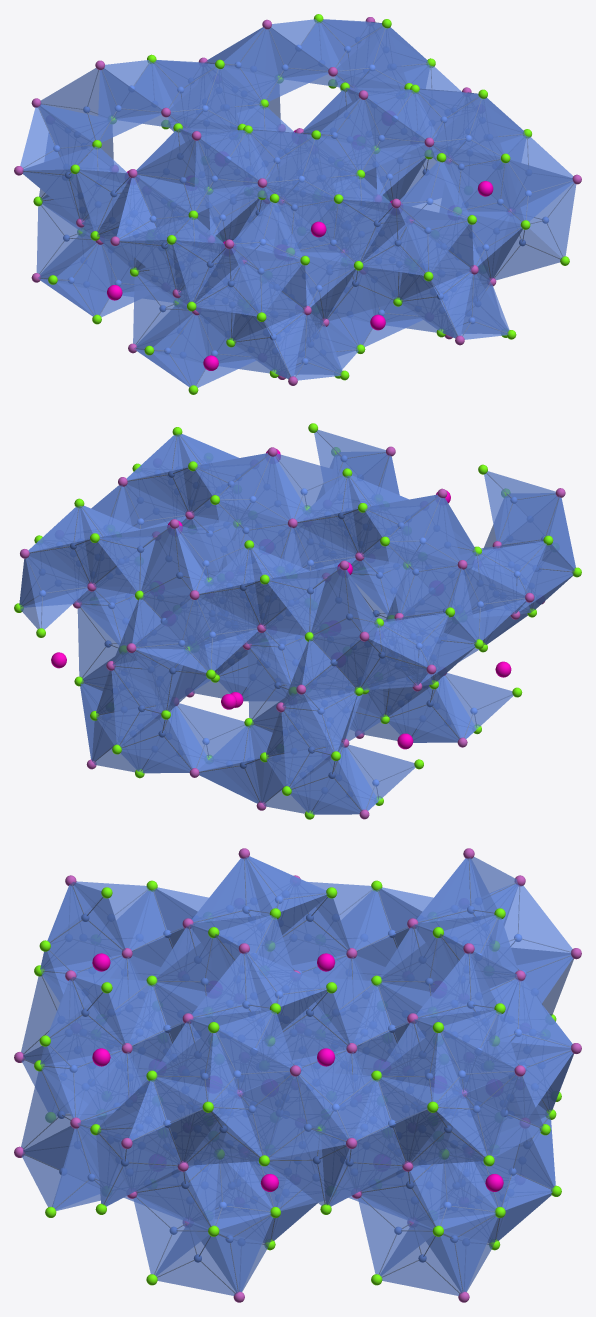
3 views of the same model, one above another, from view 1: azimuth 30°, elevation 25°; view 2: azimuth 150°, elevation 25°; view 3: azimuth 270°, elevation 25° (orthographic). The views are drawn at different scales.
Visible parts, largest first — view 1: Shape_IndexedFaceSet, Shape_Cylinder, atom6_IndexedFaceSet, atom4_IndexedFaceSet, atom1_IndexedFaceSet, atom0_IndexedFaceSet; view 2: Shape_IndexedFaceSet, Shape_Cylinder, atom6_IndexedFaceSet, atom4_IndexedFaceSet, atom1_IndexedFaceSet, atom0_IndexedFaceSet; view 3: Shape_IndexedFaceSet, Shape_Cylinder, atom6_IndexedFaceSet, atom4_IndexedFaceSet, atom1_IndexedFaceSet, atom0_IndexedFaceSet.
Part boxes in pixels (x1=…): Shape_IndexedFaceSet: x1=20, y1=19, x2=576, y2=387; Shape_Cylinder: x1=23, y1=22, x2=573, y2=385; atom6_IndexedFaceSet: x1=33, y1=14, x2=569, y2=394; atom4_IndexedFaceSet: x1=14, y1=17, x2=581, y2=385; atom1_IndexedFaceSet: x1=53, y1=44, x2=548, y2=364; atom0_IndexedFaceSet: x1=107, y1=130, x2=493, y2=370; Shape_IndexedFaceSet: x1=19, y1=429, x2=575, y2=814; Shape_Cylinder: x1=21, y1=432, x2=573, y2=812; atom6_IndexedFaceSet: x1=14, y1=423, x2=581, y2=819; atom4_IndexedFaceSet: x1=20, y1=446, x2=565, y2=819; atom1_IndexedFaceSet: x1=39, y1=455, x2=545, y2=786; atom0_IndexedFaceSet: x1=51, y1=449, x2=511, y2=749; Shape_IndexedFaceSet: x1=21, y1=856, x2=573, y2=1295; Shape_Cylinder: x1=23, y1=858, x2=570, y2=1293; atom6_IndexedFaceSet: x1=34, y1=880, x2=561, y2=1285; atom4_IndexedFaceSet: x1=14, y1=848, x2=581, y2=1302; atom1_IndexedFaceSet: x1=57, y1=896, x2=526, y2=1262; atom0_IndexedFaceSet: x1=92, y1=953, x2=503, y2=1191.
Size of the model in its own units: 25.07 by 15.15 by 25.07.
